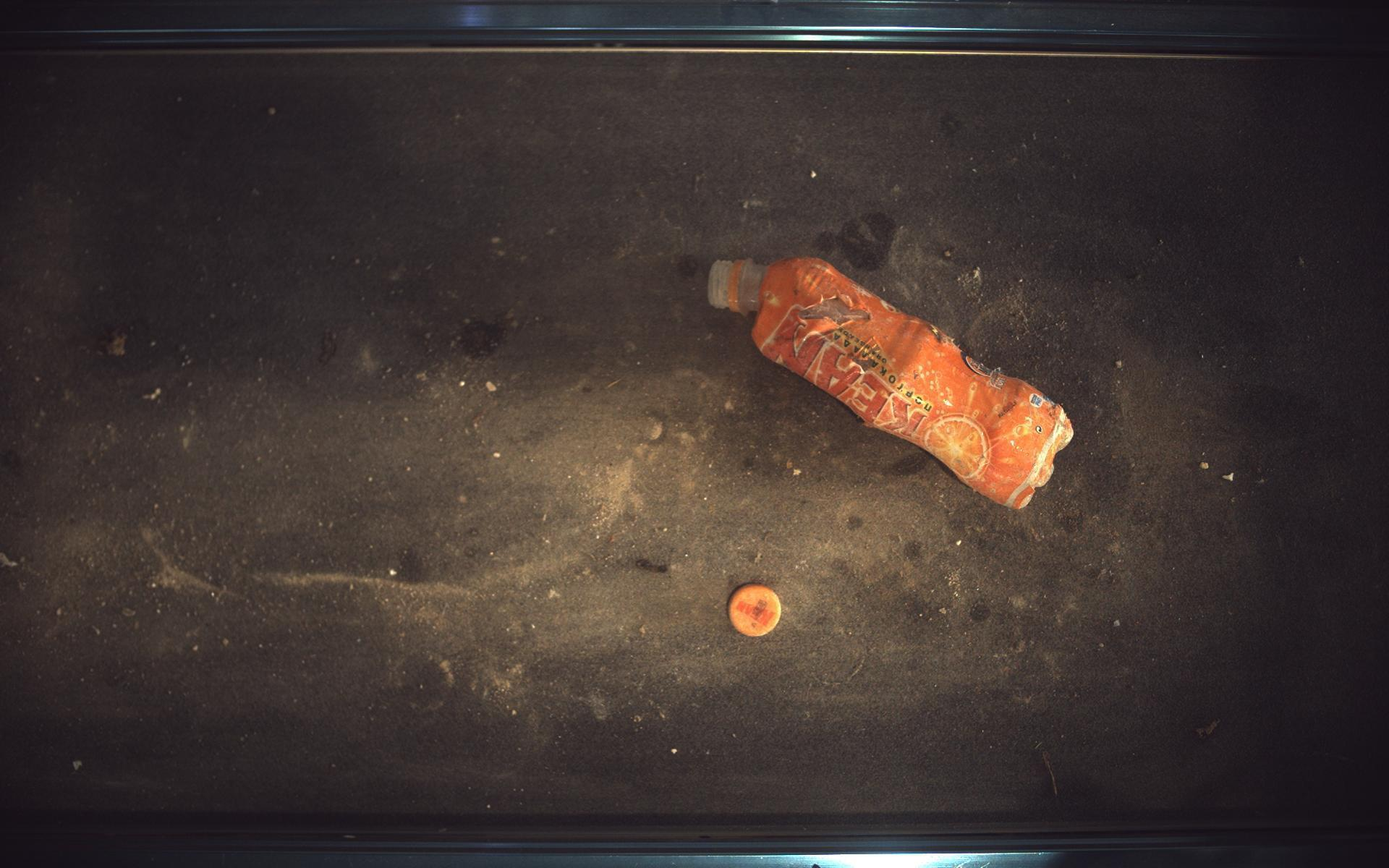general_w: (709, 257, 1075, 509)
